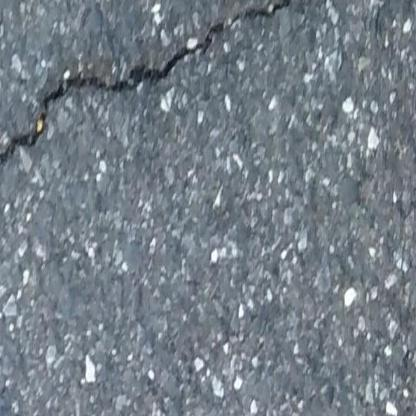Cracks: (0, 0, 309, 172)
